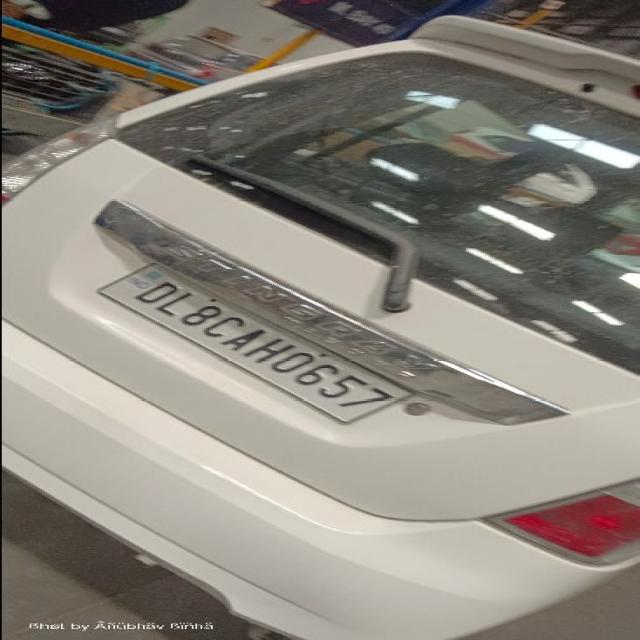license_plate: (1, 13, 636, 637), (94, 260, 413, 425)
